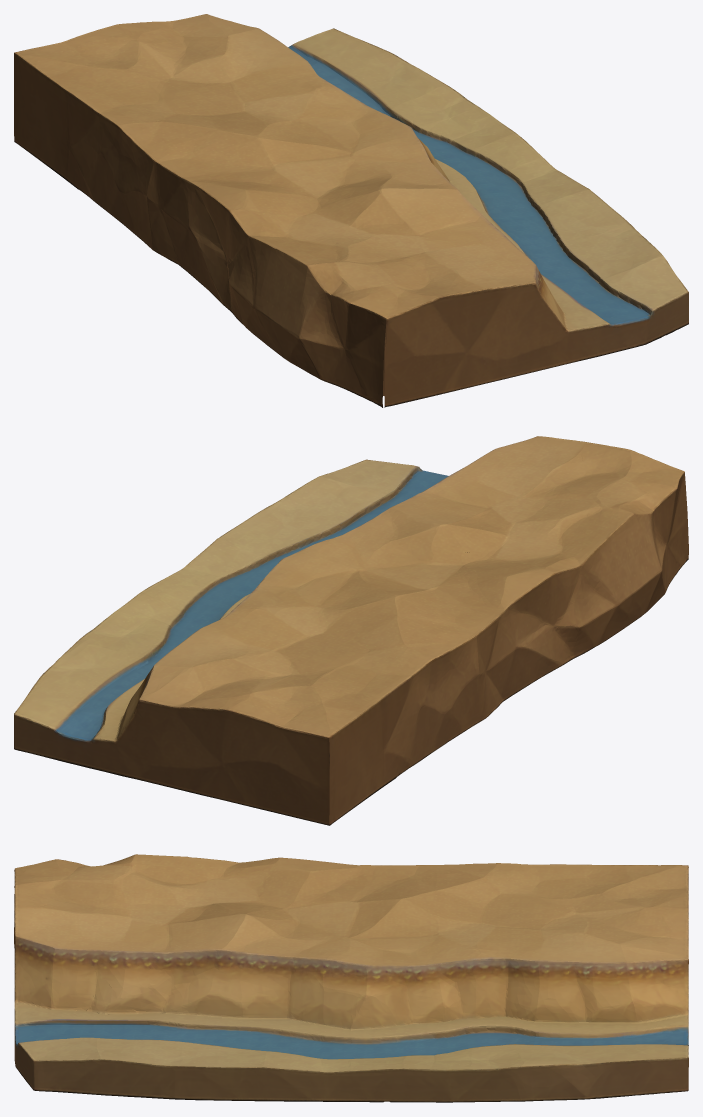
3 views of the same model, one above another, from view 1: azimuth 30°, elevation 25°; view 2: azimuth 150°, elevation 25°; view 3: azimuth 270°, elevation 25° (orthographic). The views are drawn at different scales.
Parts seen in each view (by area): view 1: world; view 2: world; view 3: world.
Part boxes in pixels (x1,y1,x2,y2): world: (14,14,688,407); world: (14,436,688,825); world: (14,854,688,1102).
Bounding box in the file's own units: 0.5888 × 0.1493 × 1.
1 material, 1 textured.
